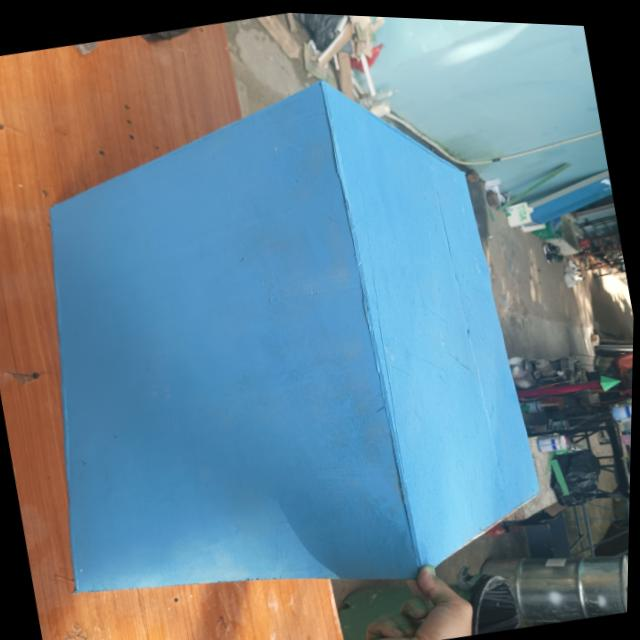blue_box: (7, 37, 568, 639)
